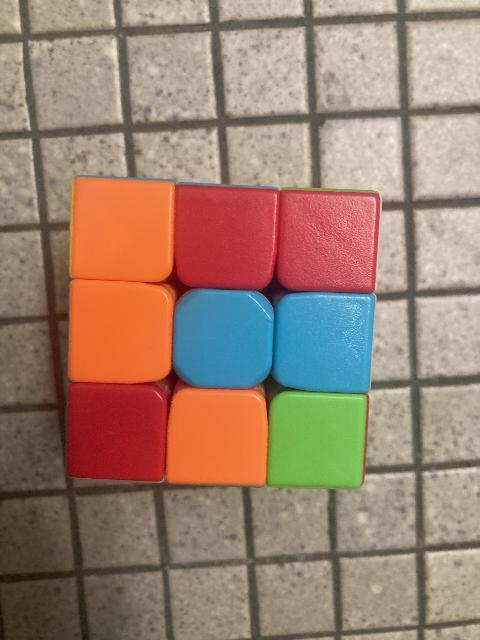Blue: (276, 299, 372, 393), (176, 296, 272, 386)
Green: (276, 397, 363, 483)
Orange: (68, 283, 168, 383), (76, 178, 169, 280), (169, 390, 267, 484)
Red: (182, 185, 272, 291), (283, 197, 375, 293), (66, 391, 164, 481)
